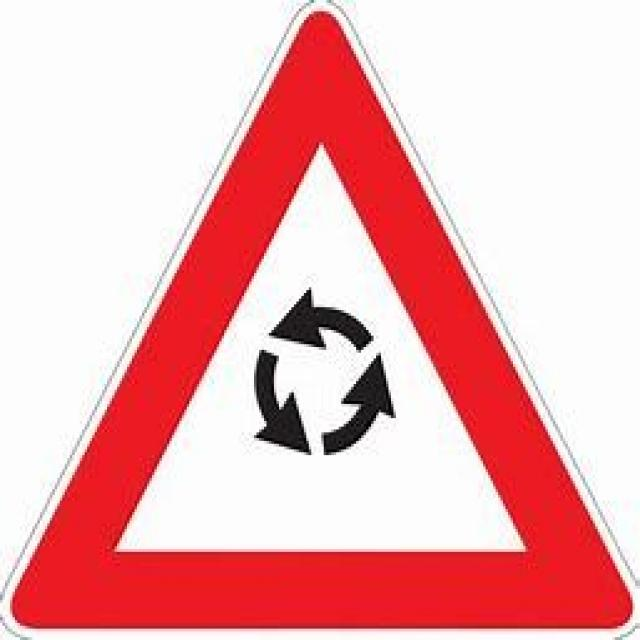ROUNDABOUT: (0, 0, 638, 637)
